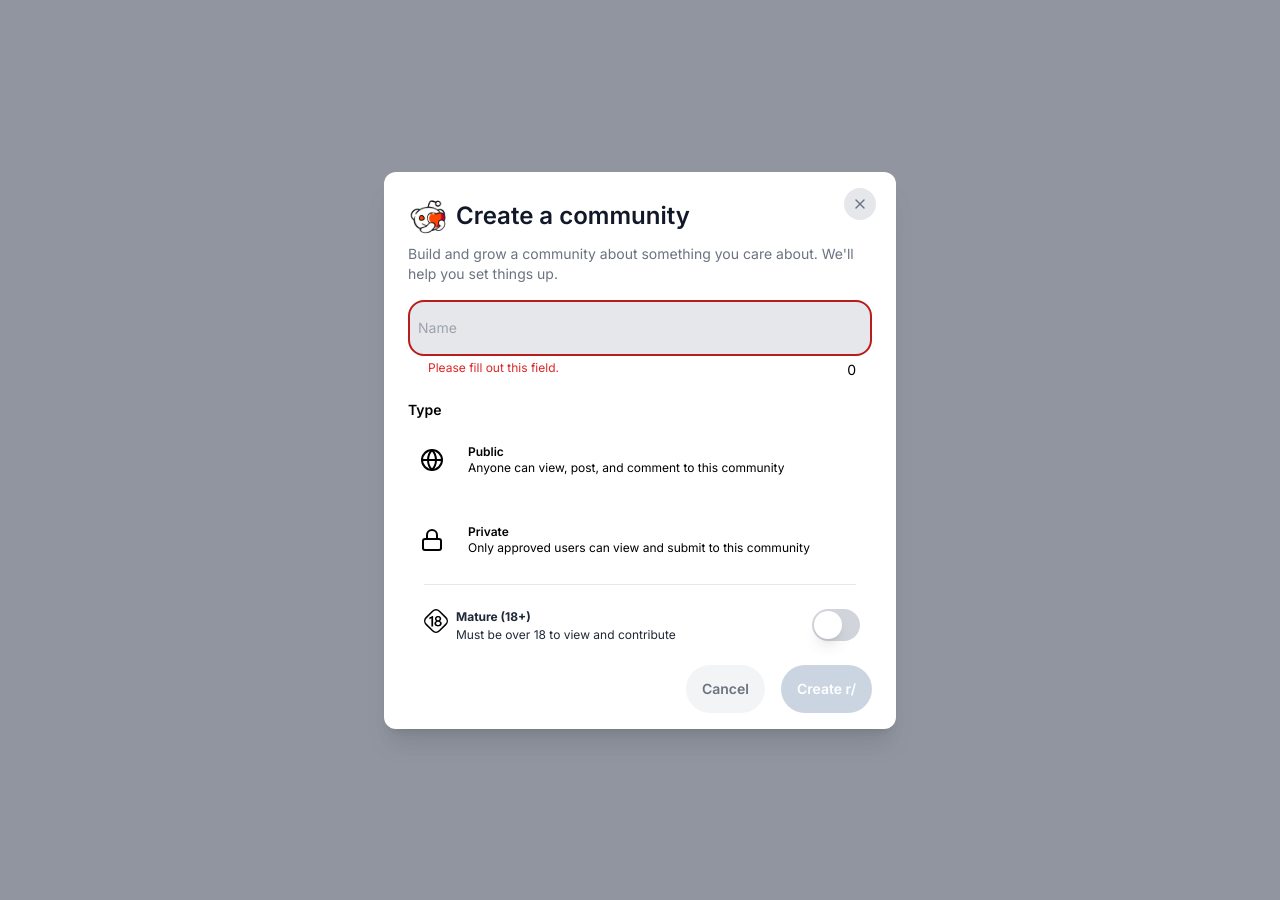
Test: button functionality › submit button works (true)
In the field: (640, 328) [408,300,872,356], type "no"
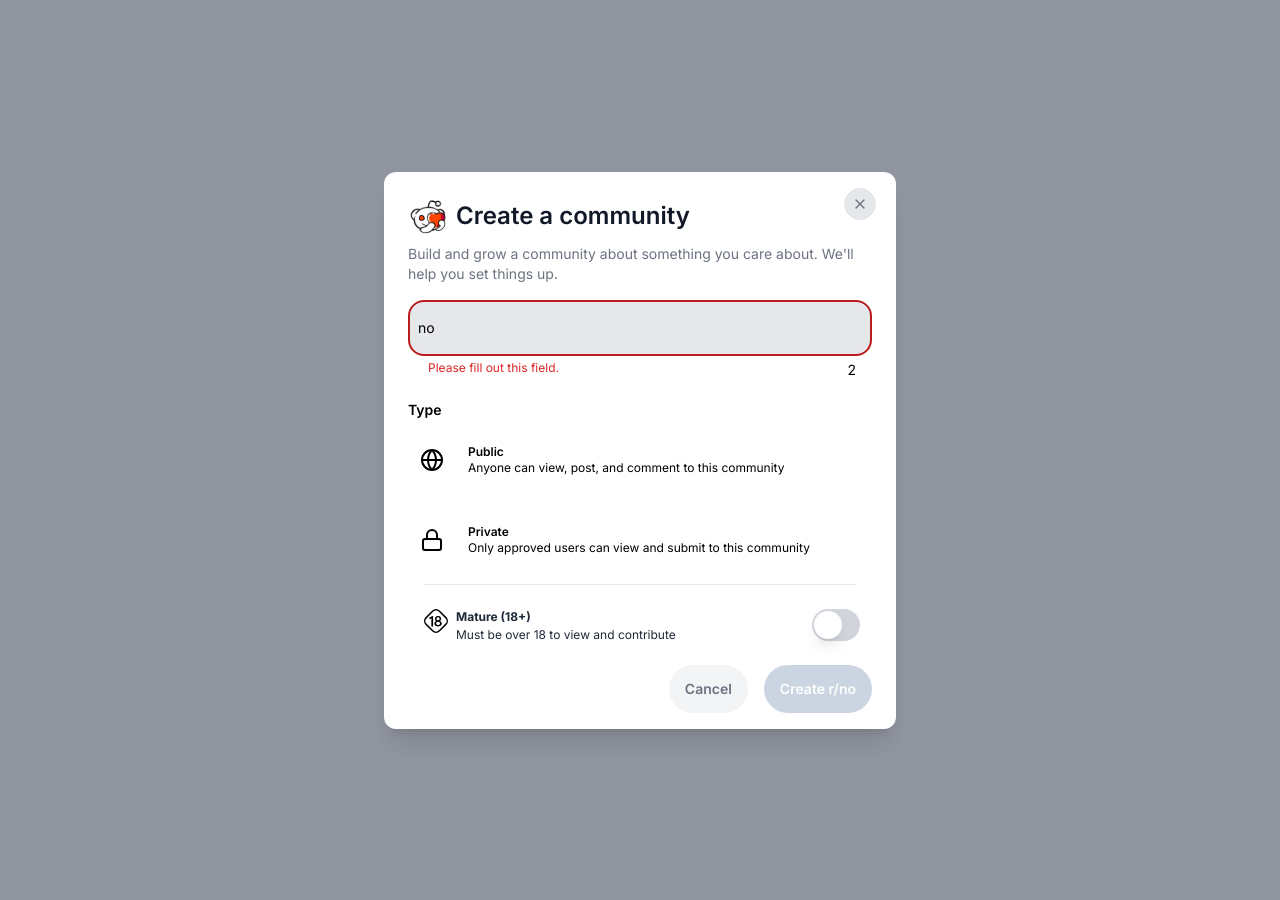
Check: the button "Create r/no" is disabled, box [764,664,872,712]
Replace the text in the field with "yes": (640, 328) [408,300,872,356]
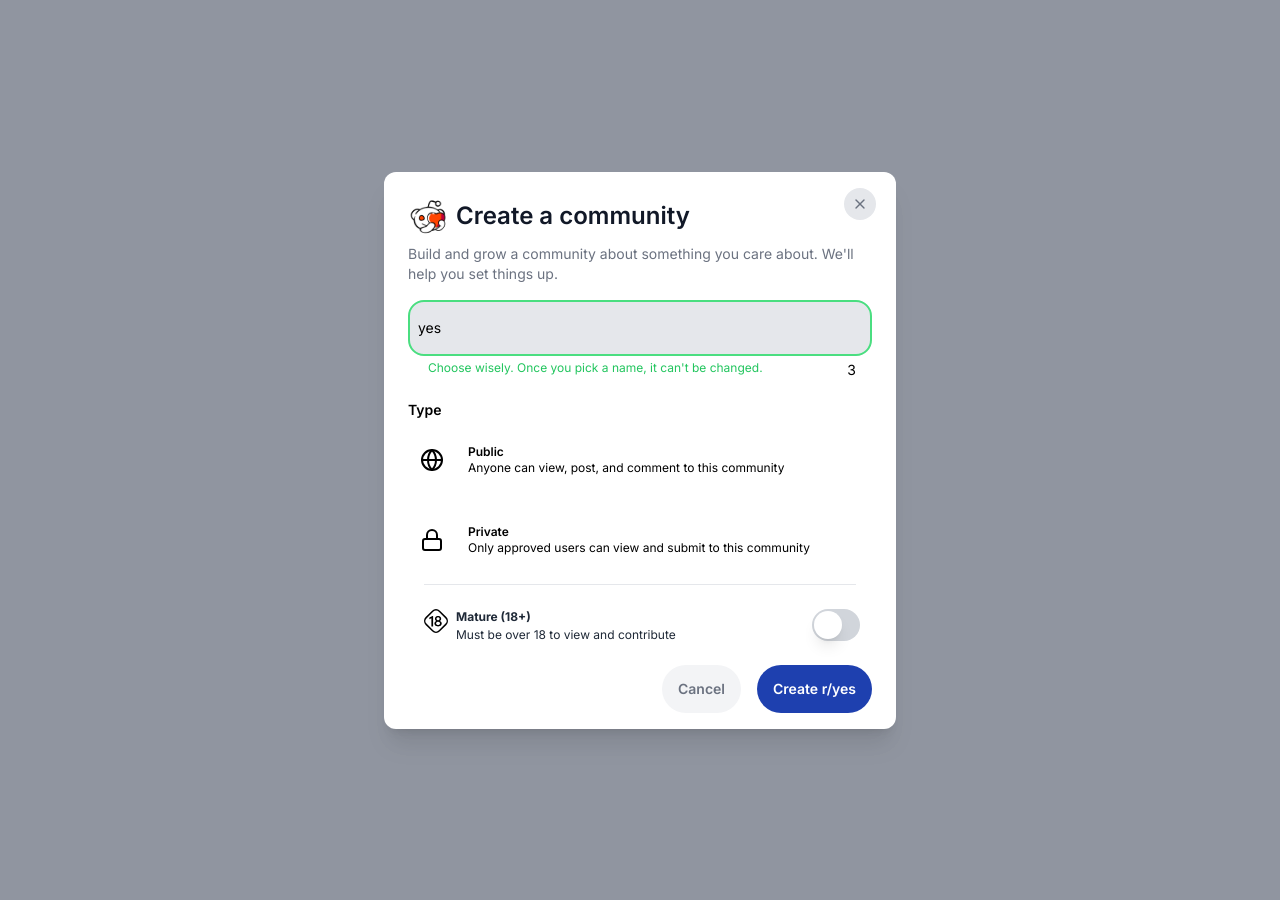
Check: the button "Create r/yes" is enabled, box [757,664,872,712]
